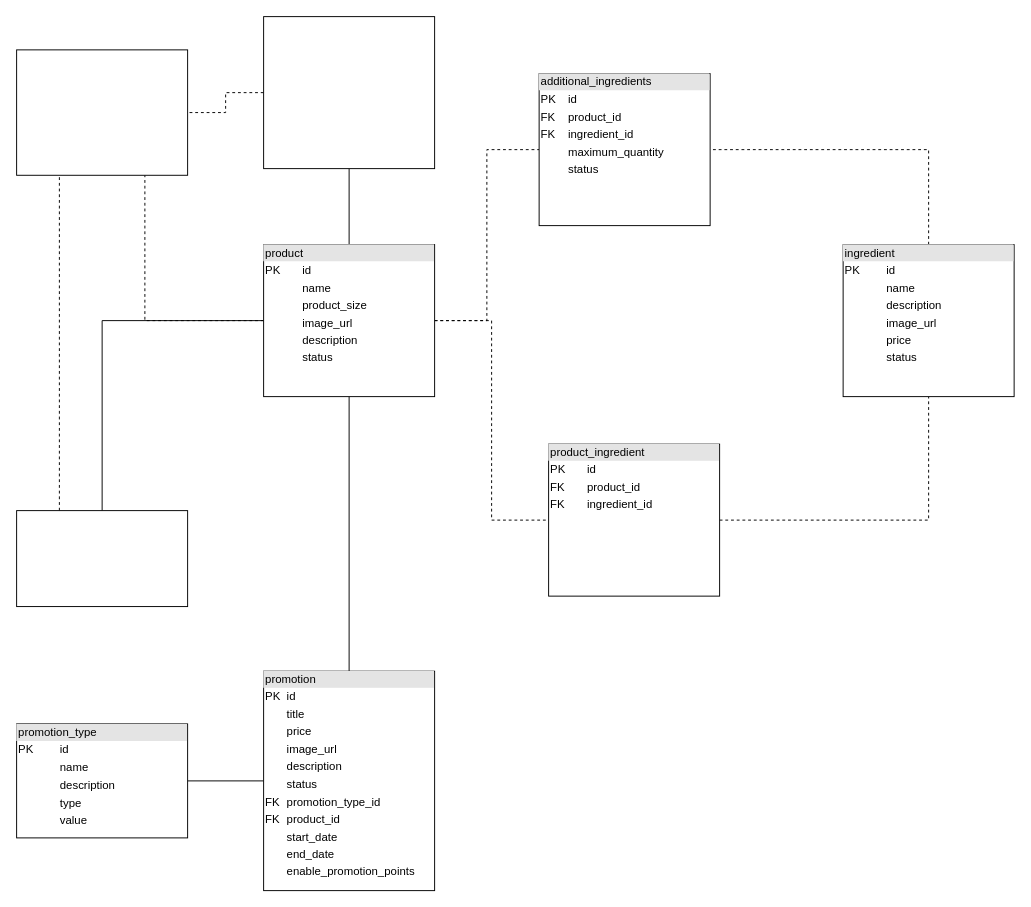
Image size: 1031x907. Some labels were removed from this diagram. The shapes that lost their labels are listed below. From the top down, each one's box as (x1, y1, x2, y2) in pixels, then its label:
(16, 49, 188, 175): combo_product PK id FK combo_id FK product_id FK product_size_id (null) quantity
(263, 16, 435, 169): combo PK id name price image_url description status
(16, 510, 188, 607): product_size PK id FK product_id price status
